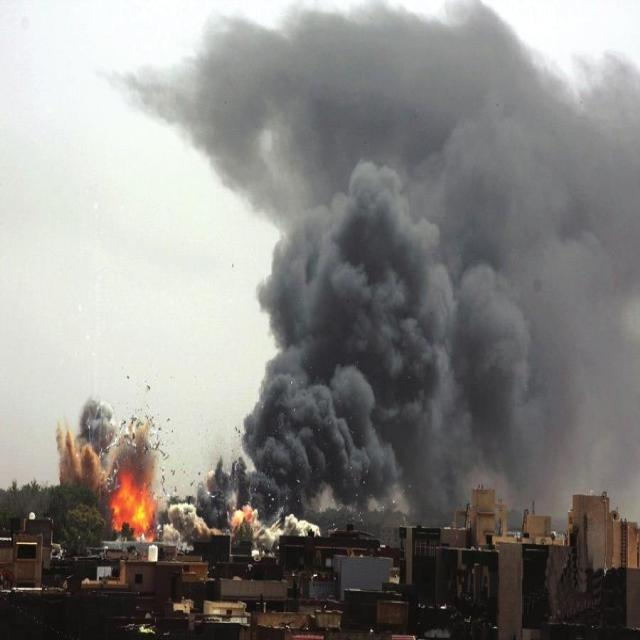Fire: (110, 474, 160, 544)
Smoke: (74, 1, 640, 556)
